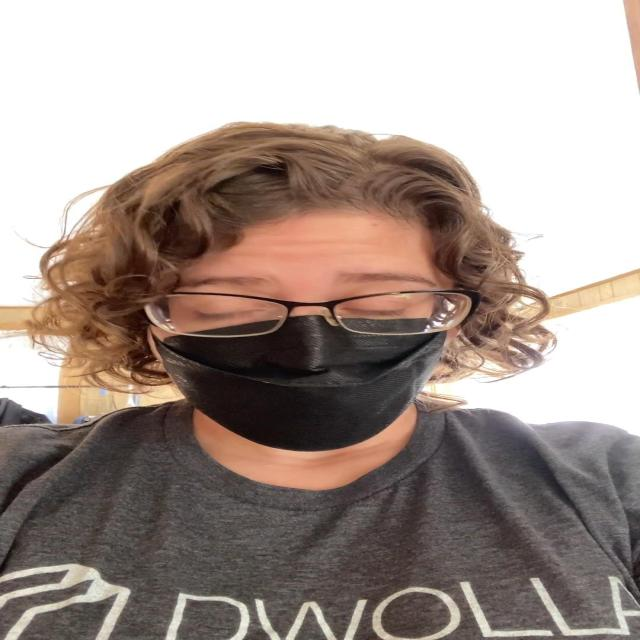no-helmet: (144, 209, 461, 448)
